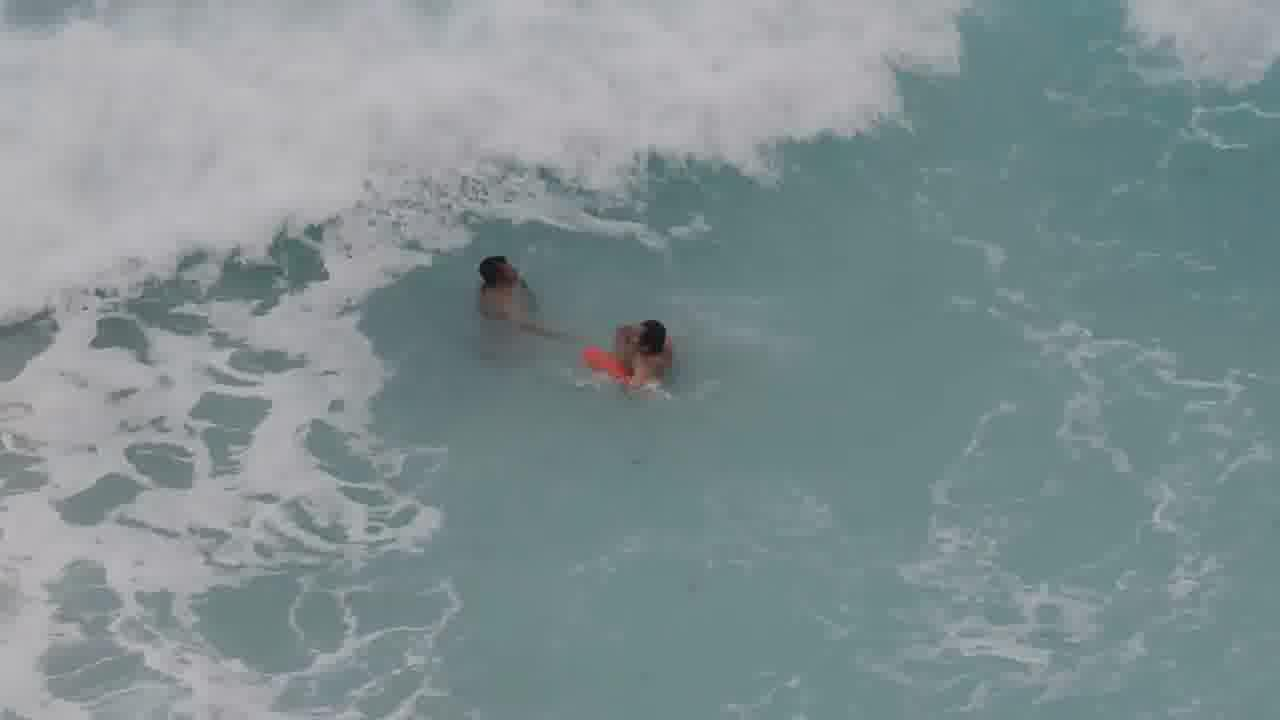human: (459, 243, 570, 345), (606, 303, 686, 390)
